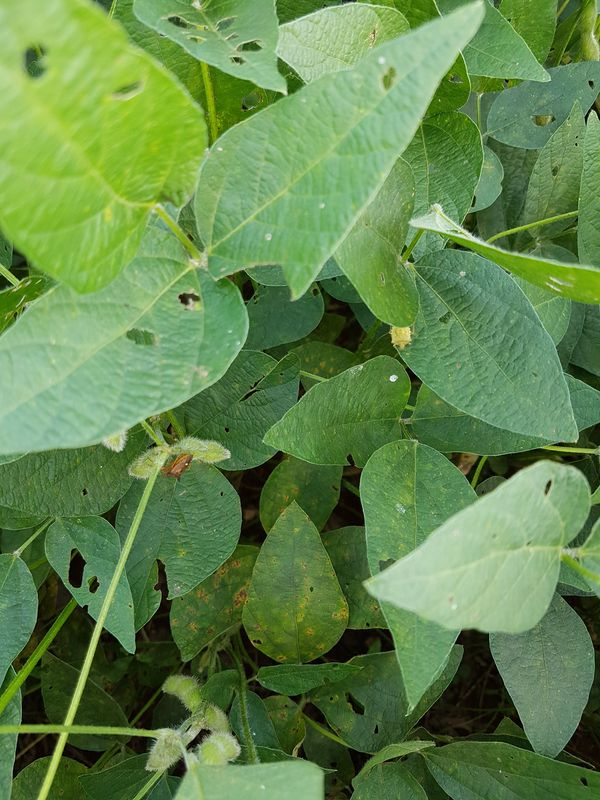Euschistus_heros_adulto: (157, 447, 199, 487)
Euschistus_heros_ninfa: (382, 319, 418, 355)
